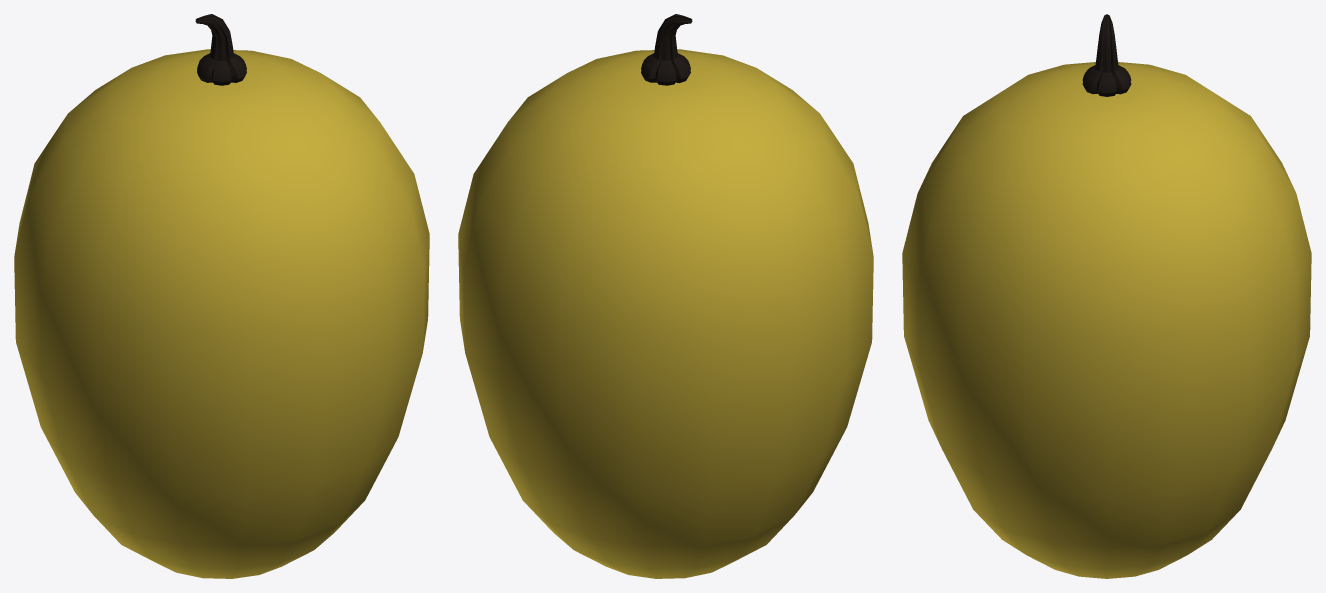
File: Melon.FBX
3 views of the same model, side by side, from view 1: azimuth 30°, elevation 25°; view 2: azimuth 150°, elevation 25°; view 3: azimuth 270°, elevation 25° (orthographic). The views are drawn at different scales.
Visible parts, largest first — view 1: Melon; view 2: Melon; view 3: Melon.
Boxes of the visible parts, left/top/right/bottom form: Melon: left=14, top=14, right=429, bottom=578; Melon: left=458, top=14, right=873, bottom=578; Melon: left=902, top=14, right=1311, bottom=578.
Bounding box in the file's own units: 776 × 776 × 1131.
